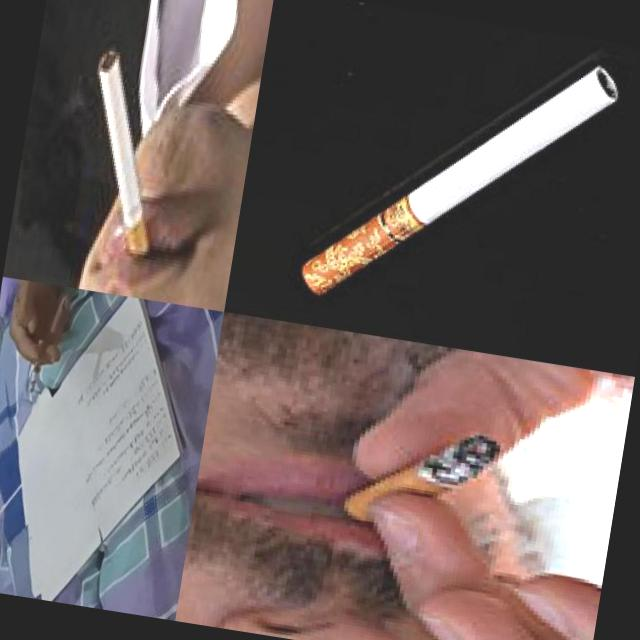cigarette: (296, 22, 625, 334), (68, 47, 186, 276), (341, 414, 504, 542), (29, 339, 44, 393)
